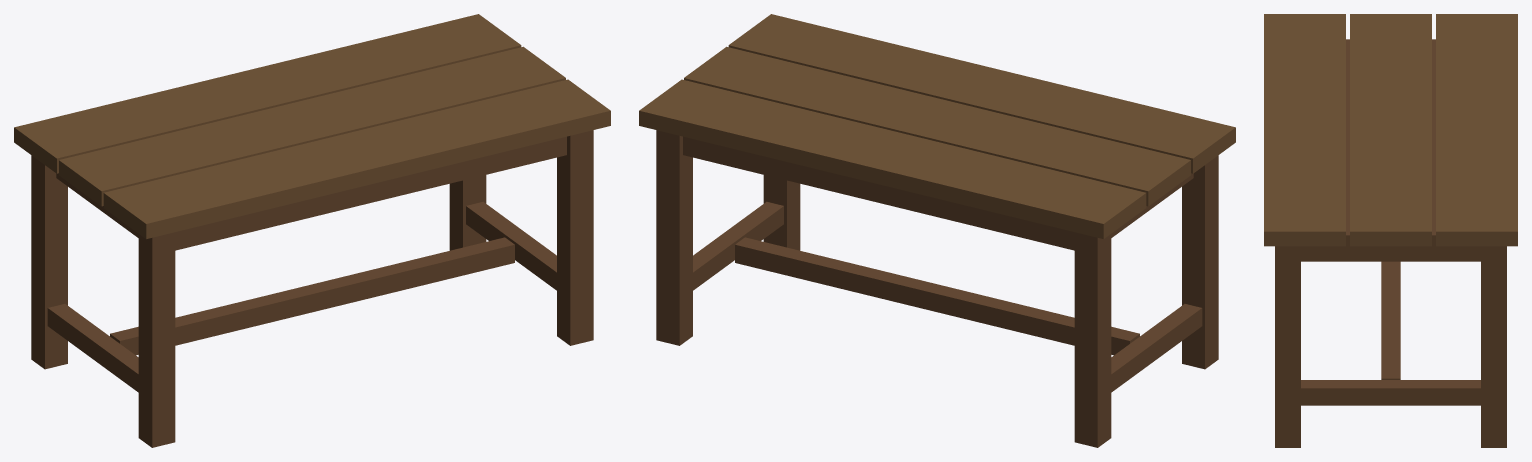
File: Table.fbx
The picture shows the model from 3 angles, left to right: view 1: azimuth 30°, elevation 25°; view 2: azimuth 150°, elevation 25°; view 3: azimuth 270°, elevation 25°; orthographic projection. The views are drawn at different scales.
Parts seen in each view (by area): view 1: Table; view 2: Table; view 3: Table.
Part boxes in pixels (x1,y1,x2,y2): Table: (14, 14, 610, 447); Table: (639, 14, 1235, 447); Table: (1264, 14, 1517, 447).
Size of the model in its own units: 1.6 by 0.76 by 0.788.
